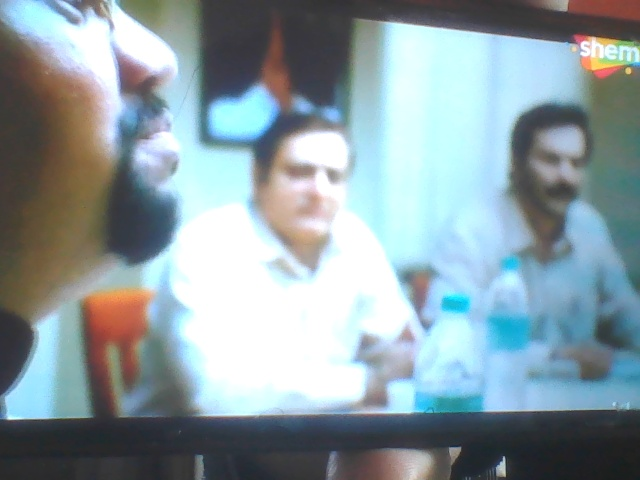fake: (255, 99, 363, 252)
